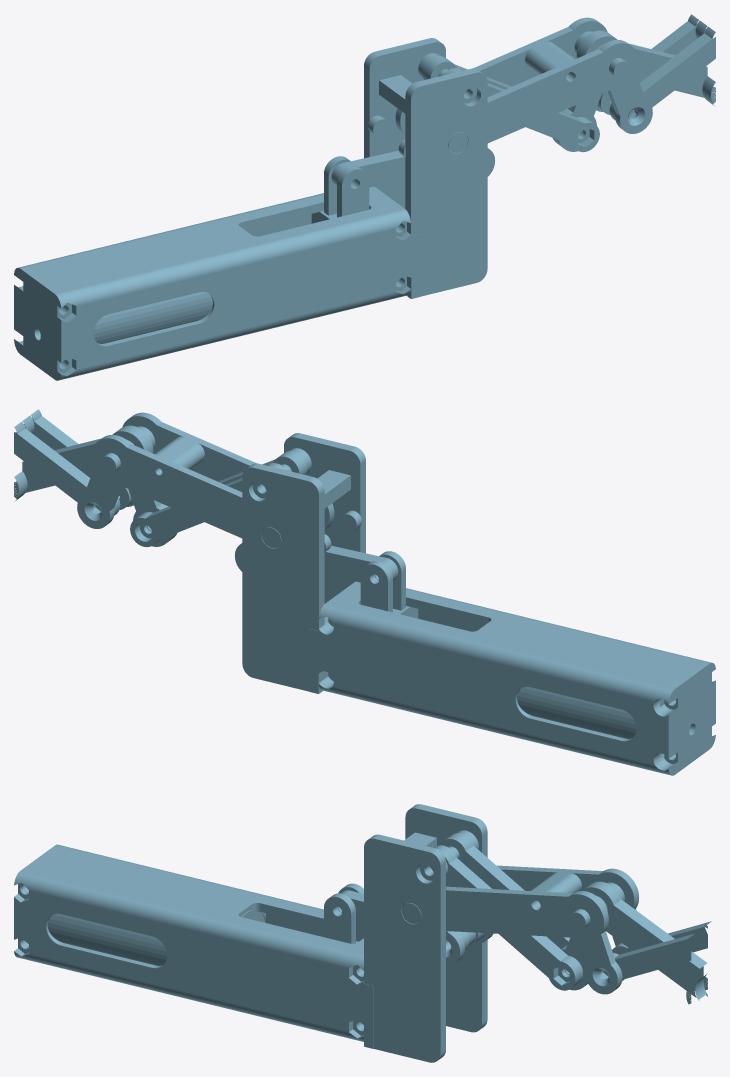
The model's file is 04-links.glb.
The picture shows the model from 3 angles, top to bottom: view 1: azimuth 30°, elevation 25°; view 2: azimuth 150°, elevation 25°; view 3: azimuth 330°, elevation 25°; orthographic projection.
Visible parts, largest first — view 1: 04-links; view 2: 04-links; view 3: 04-links.
Boxes of the visible parts, x1,y1,x2,y2 form: 04-links: (14,14,715,380); 04-links: (14,409,715,775); 04-links: (14,804,711,1062).
Bounding box in the file's own units: 0.2437 × 0.0735 × 0.03.
